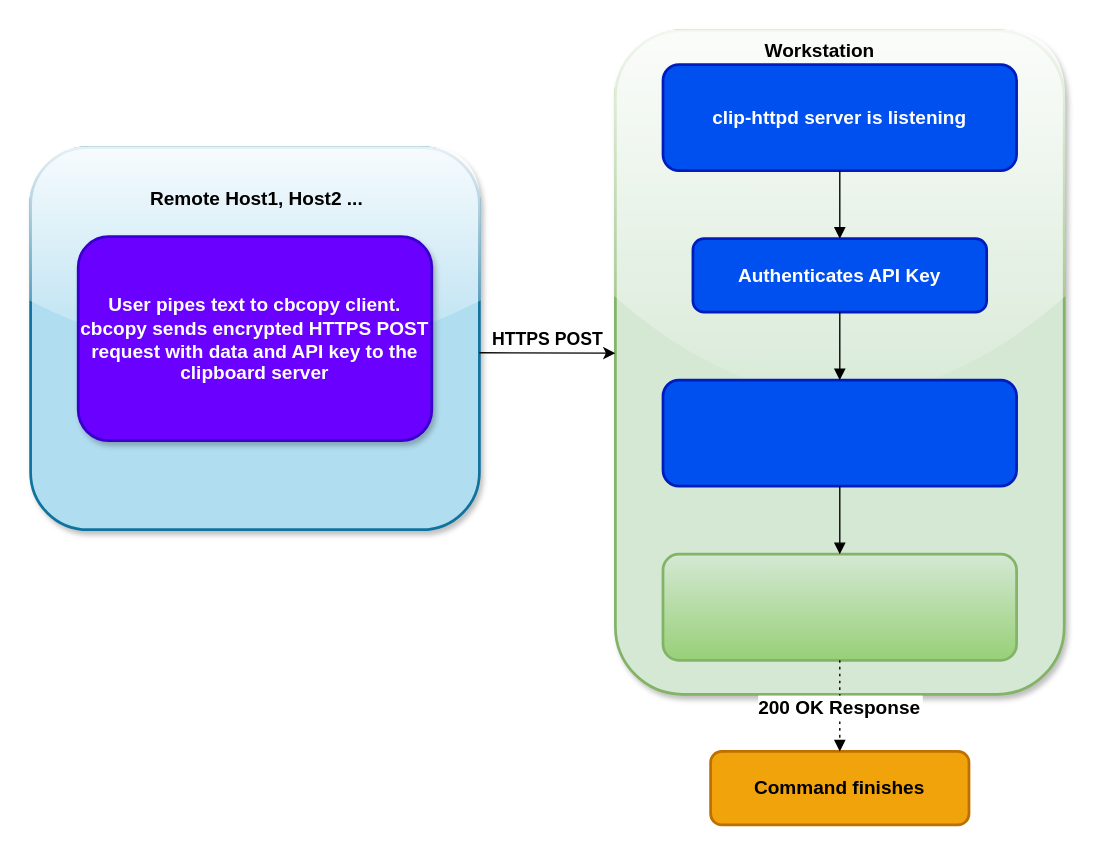
Image size: 1096x849. Some labels were removed from this diagram. Each missing label, with the centre of its shape:
Reads text from request body: the point at 839,432
Writes text to system clipboard: the point at 839,606
